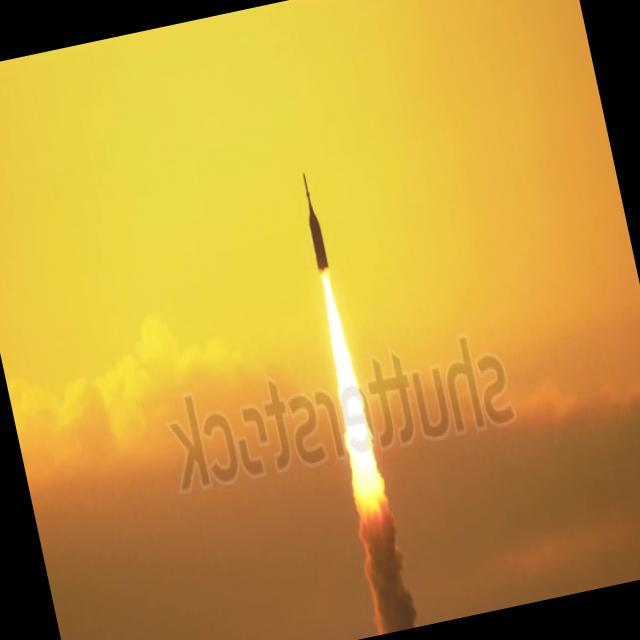rocket: (293, 163, 381, 492)
